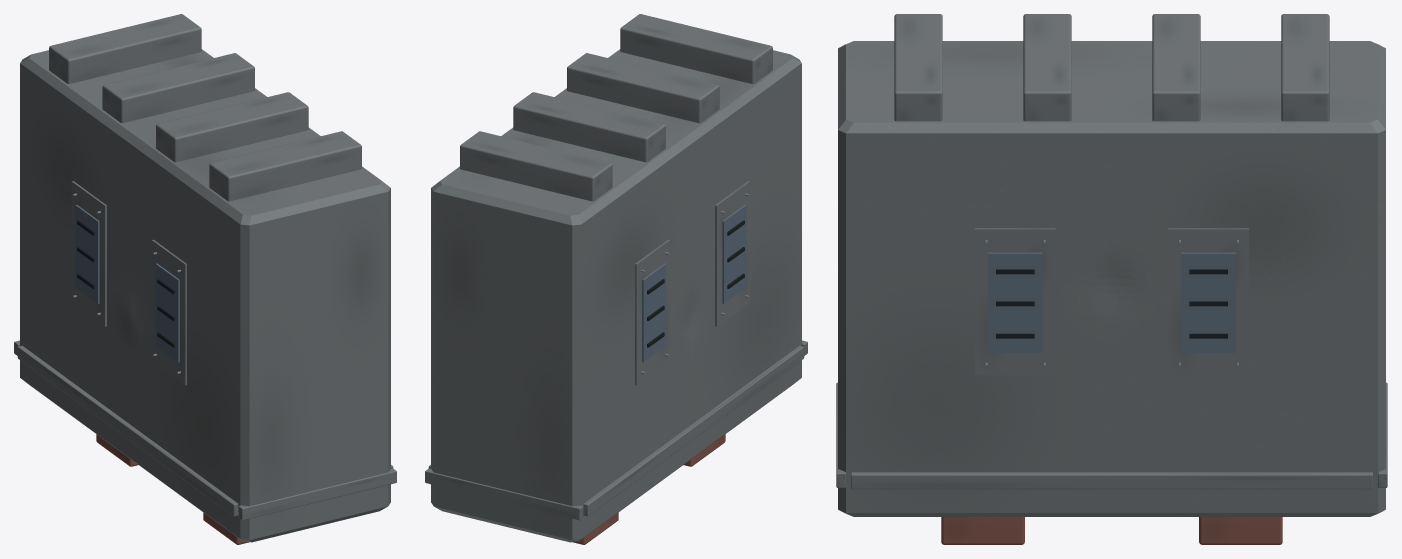
3 views of the same model, side by side, from view 1: azimuth 30°, elevation 25°; view 2: azimuth 150°, elevation 25°; view 3: azimuth 270°, elevation 25° (orthographic). The views are drawn at different scales.
Visible parts, largest first — view 1: Type 5 chamfered slab body, Type 5 crown tab 0, Type 5 crown tab 1, Type 5 crown tab 2, Type 5 crown tab 3, Type 5 side seam strip -1, Type 5 service frame -1 1, Type 5 service frame -1 0, Type 5 end seam strip -1, Type 5 blue grey inset -1 0, Type 5 blue grey inset -1 1; view 2: Type 5 chamfered slab body, Type 5 crown tab 2, Type 5 crown tab 3, Type 5 crown tab 1, Type 5 crown tab 0, Type 5 side seam strip -1, Type 5 service frame -1 0, Type 5 service frame -1 1, Type 5 end seam strip 1, Type 5 blue grey inset -1 1, Type 5 blue grey inset -1 0; view 3: Type 5 chamfered slab body, Type 5 side seam strip 1, Type 5 service frame 1 0, Type 5 service frame 1 1, Type 5 crown tab 0, Type 5 crown tab 1, Type 5 crown tab 2, Type 5 crown tab 3, Type 5 blue grey inset 1 0, Type 5 blue grey inset 1 1, Type 5 warm lower tab 0, Type 5 warm lower tab 1.
Part boxes in pixels (bbox=[...]): Type 5 chamfered slab body: bbox=[20, 49, 390, 542]; Type 5 crown tab 0: bbox=[209, 131, 361, 201]; Type 5 crown tab 1: bbox=[156, 92, 308, 162]; Type 5 crown tab 2: bbox=[102, 53, 254, 123]; Type 5 crown tab 3: bbox=[49, 14, 201, 83]; Type 5 side seam strip -1: bbox=[17, 345, 238, 516]; Type 5 service frame -1 1: bbox=[71, 181, 106, 326]; Type 5 service frame -1 0: bbox=[152, 239, 186, 385]; Type 5 end seam strip -1: bbox=[238, 468, 396, 520]; Type 5 blue grey inset -1 0: bbox=[155, 263, 179, 362]; Type 5 blue grey inset -1 1: bbox=[75, 205, 99, 303]; Type 5 chamfered slab body: bbox=[431, 49, 801, 542]; Type 5 crown tab 2: bbox=[513, 92, 665, 162]; Type 5 crown tab 3: bbox=[460, 131, 612, 201]; Type 5 crown tab 1: bbox=[567, 53, 719, 123]; Type 5 crown tab 0: bbox=[620, 14, 772, 83]; Type 5 side seam strip -1: bbox=[583, 345, 804, 516]; Type 5 service frame -1 0: bbox=[715, 181, 750, 326]; Type 5 service frame -1 1: bbox=[635, 239, 669, 385]; Type 5 end seam strip 1: bbox=[425, 468, 583, 520]; Type 5 blue grey inset -1 1: bbox=[642, 263, 666, 362]; Type 5 blue grey inset -1 0: bbox=[722, 205, 746, 303]; Type 5 chamfered slab body: bbox=[838, 41, 1385, 516]; Type 5 side seam strip 1: bbox=[851, 472, 1372, 489]; Type 5 service frame 1 0: bbox=[975, 228, 1055, 375]; Type 5 service frame 1 1: bbox=[1168, 228, 1248, 375]; Type 5 crown tab 0: bbox=[894, 14, 942, 121]; Type 5 crown tab 1: bbox=[1023, 14, 1071, 121]; Type 5 crown tab 2: bbox=[1152, 14, 1200, 121]; Type 5 crown tab 3: bbox=[1281, 14, 1329, 121]; Type 5 blue grey inset 1 0: bbox=[988, 252, 1042, 352]; Type 5 blue grey inset 1 1: bbox=[1181, 252, 1235, 352]; Type 5 warm lower tab 0: bbox=[941, 517, 1024, 544]; Type 5 warm lower tab 1: bbox=[1199, 517, 1282, 544].
Size of the model in its own units: 0.694 by 1.61 by 1.71.
5 materials, 2 textured.
